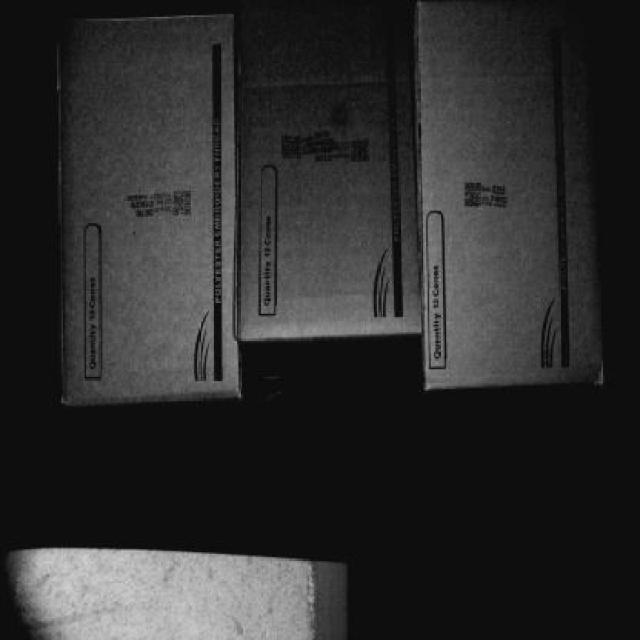cardboxes: (425, 3, 606, 394), (59, 17, 242, 401), (249, 10, 422, 328)
